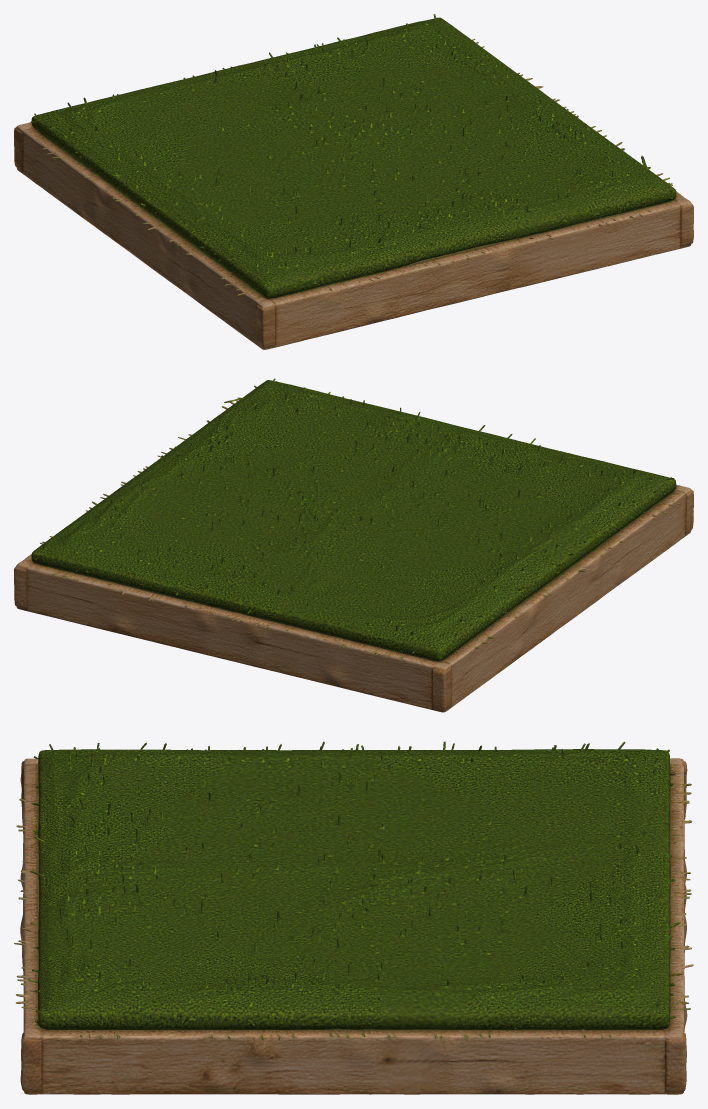
The model's file is panel_lawn.glb.
The picture shows the model from 3 angles, top to bottom: view 1: azimuth 30°, elevation 25°; view 2: azimuth 150°, elevation 25°; view 3: azimuth 270°, elevation 25°; orthographic projection. The views are drawn at different scales.
Parts seen in each view (by area): view 1: tripo_node_a798ef68-236f-4c10-99d6-54520b6235b9; view 2: tripo_node_a798ef68-236f-4c10-99d6-54520b6235b9; view 3: tripo_node_a798ef68-236f-4c10-99d6-54520b6235b9.
Boxes of the visible parts, x1=… form: tripo_node_a798ef68-236f-4c10-99d6-54520b6235b9: x1=14, y1=14, x2=693, y2=349; tripo_node_a798ef68-236f-4c10-99d6-54520b6235b9: x1=14, y1=378, x2=693, y2=712; tripo_node_a798ef68-236f-4c10-99d6-54520b6235b9: x1=14, y1=741, x2=693, y2=1094.
Size of the model in its own units: 1.31 by 0.2 by 1.31.
1 material, 1 textured.
